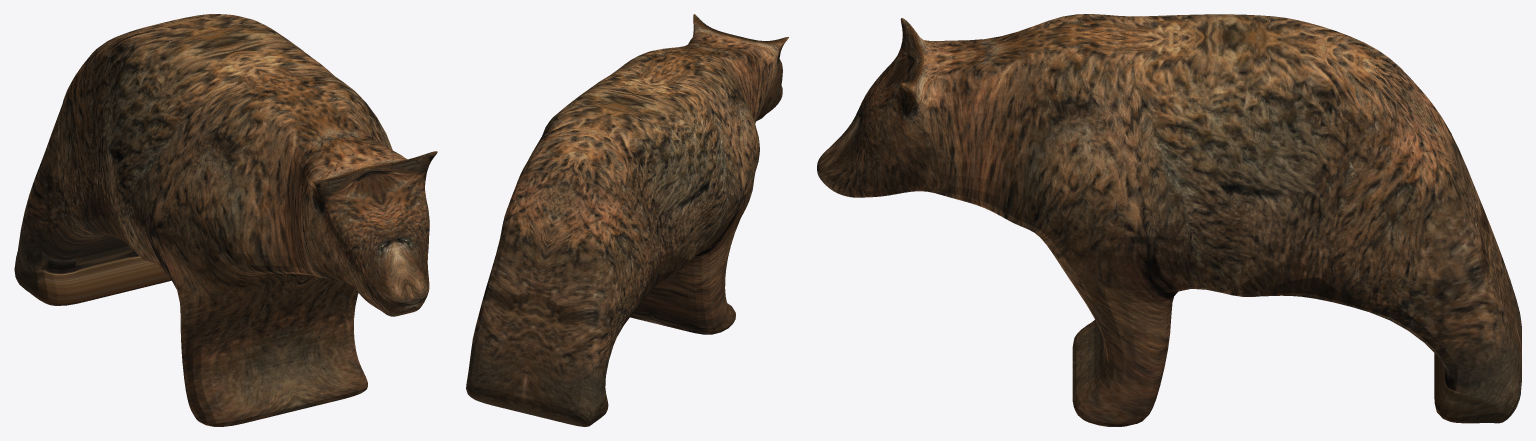
Rendered from bearuv.glb.
3 renders of one model, left to right at view 1: azimuth 30°, elevation 25°; view 2: azimuth 150°, elevation 25°; view 3: azimuth 270°, elevation 25°, orthographic. The views are drawn at different scales.
Parts seen in each view (by area): view 1: Plane; view 2: Plane; view 3: Plane.
Part boxes in pixels (x1=…): Plane: x1=14, y1=14, x2=437, y2=426; Plane: x1=466, y1=14, x2=788, y2=426; Plane: x1=817, y1=14, x2=1521, y2=426.
Bounding box in the file's own units: 1.65 × 2.27 × 4.09.
1 material, 1 textured.
